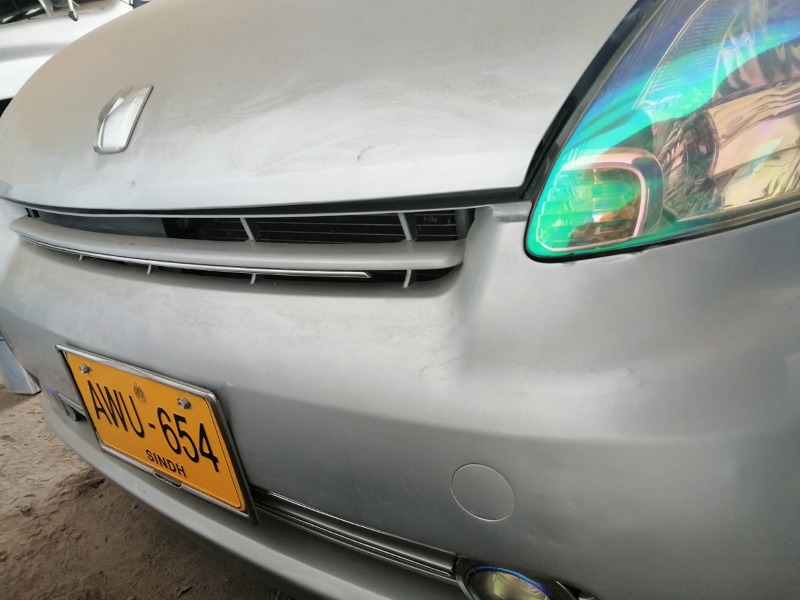License Plate: (56, 342, 257, 521)
